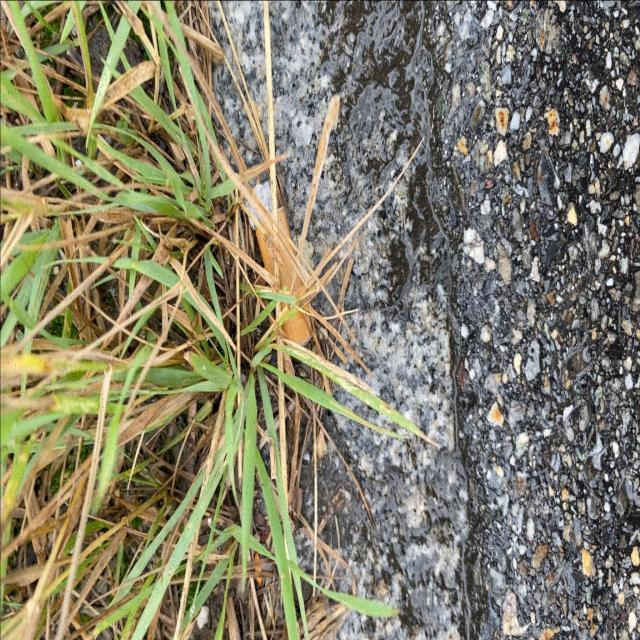other waste: (243, 178, 313, 350)
